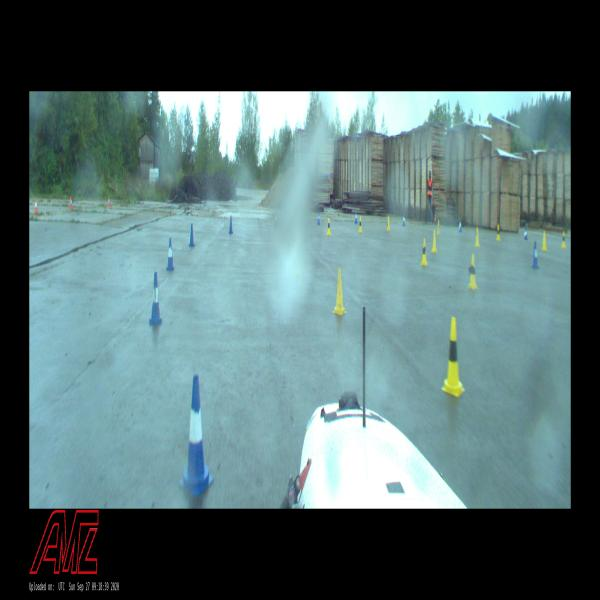blue_cone: (178, 376, 214, 497), (149, 272, 162, 325), (166, 238, 174, 270), (532, 241, 539, 269), (189, 223, 195, 247), (229, 216, 233, 233), (524, 226, 528, 240), (402, 214, 406, 226), (459, 218, 462, 232), (317, 212, 320, 224), (355, 211, 358, 223)
orange_cone: (34, 198, 38, 213), (70, 196, 72, 209), (108, 196, 110, 207)
yellow_cone: (441, 318, 465, 396), (332, 268, 346, 315), (468, 254, 478, 289), (420, 239, 428, 265), (431, 230, 437, 252), (475, 227, 480, 246), (542, 231, 547, 250), (326, 218, 331, 235), (496, 224, 501, 241), (561, 232, 566, 248), (358, 217, 362, 232), (386, 216, 390, 231), (436, 220, 440, 235)
